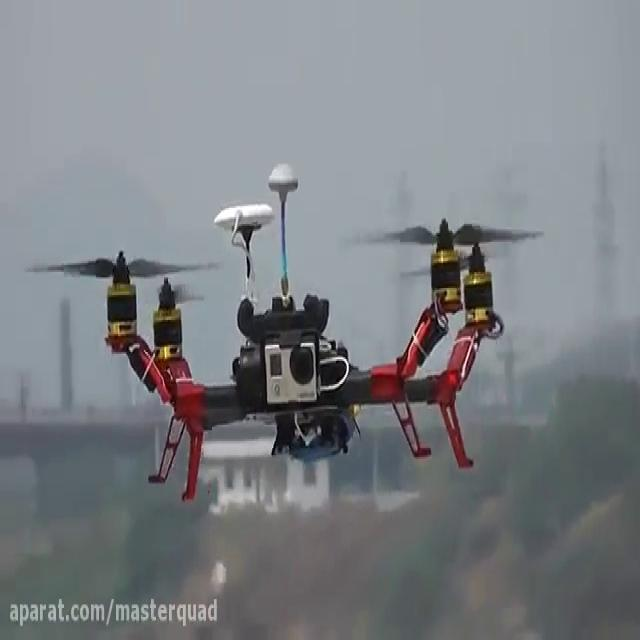drone: (20, 154, 548, 508)
